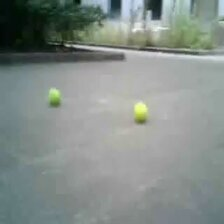tennis: (132, 102, 149, 119), (47, 88, 61, 106)
